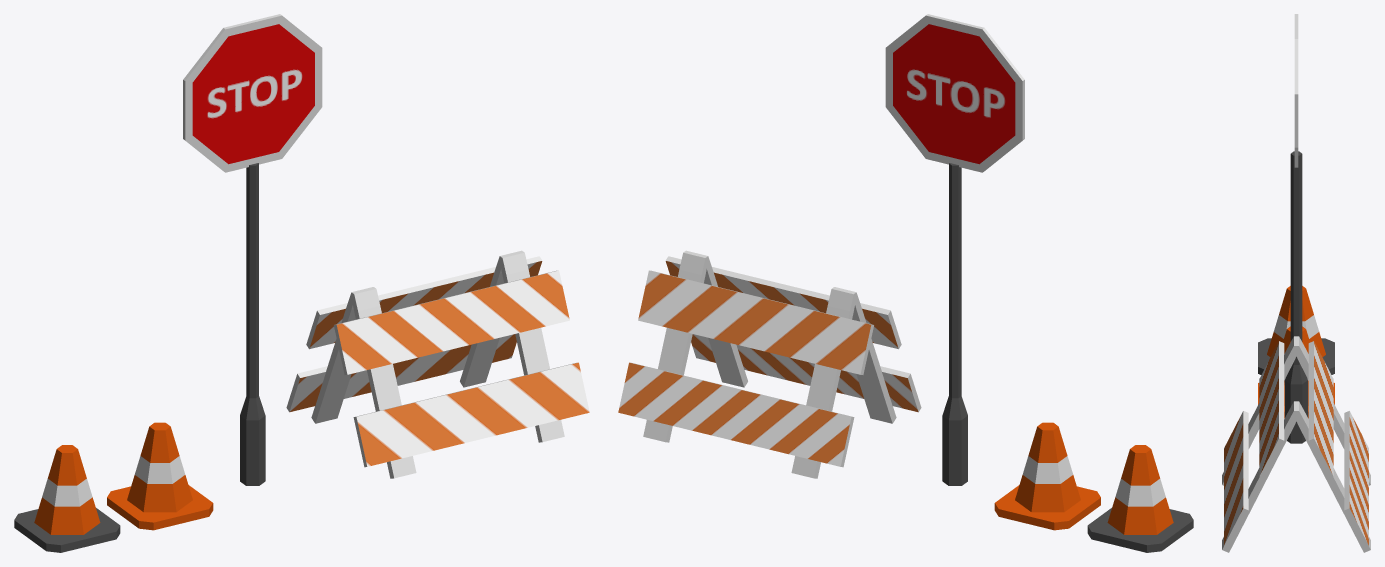
File: Construction.fbx
The picture shows the model from 3 angles, left to right: view 1: azimuth 30°, elevation 25°; view 2: azimuth 150°, elevation 25°; view 3: azimuth 270°, elevation 25°; orthographic projection. The views are drawn at different scales.
Visible parts, largest first — view 1: Cilindro, Cubo.007, Cubo.006, Cubo.002, Cilindro.003, Cilindro.002, Cilindro.001, Cubo.003, Cubo; view 2: Cilindro, Cubo.007, Cubo.006, Cubo.002, Cilindro.003, Cilindro.002, Cilindro.001, Cubo.003, Cubo; view 3: Cubo.006, Cubo.007, Cilindro.003, Cubo.002, Cilindro.001, Cilindro, Cubo, Cilindro.002.
Boxes of the visible parts, x1,y1,x2,y2 form: Cilindro: [183, 14, 322, 172]; Cubo.007: [286, 334, 589, 467]; Cubo.006: [306, 256, 569, 374]; Cubo.002: [311, 250, 564, 478]; Cilindro.003: [240, 163, 265, 485]; Cilindro.002: [127, 422, 192, 512]; Cilindro.001: [34, 445, 100, 534]; Cubo.003: [107, 485, 213, 530]; Cubo: [14, 508, 120, 552]; Cilindro: [885, 14, 1024, 172]; Cubo.007: [618, 334, 921, 467]; Cubo.006: [638, 256, 901, 374]; Cubo.002: [643, 250, 896, 478]; Cilindro.003: [942, 163, 967, 485]; Cilindro.002: [1015, 422, 1080, 512]; Cilindro.001: [1107, 445, 1173, 534]; Cubo.003: [994, 485, 1100, 530]; Cubo: [1087, 508, 1193, 552]; Cubo.006: [1259, 341, 1333, 478]; Cubo.007: [1224, 411, 1368, 547]; Cilindro.003: [1285, 151, 1307, 443]; Cubo.002: [1222, 336, 1370, 552]; Cilindro.001: [1267, 286, 1325, 356]; Cilindro: [1294, 14, 1298, 167]; Cubo: [1258, 338, 1334, 374]; Cilindro.002: [1283, 326, 1309, 405].
Bounding box in the file's own units: 1400 × 1195 × 387.
1 material, 1 textured.
